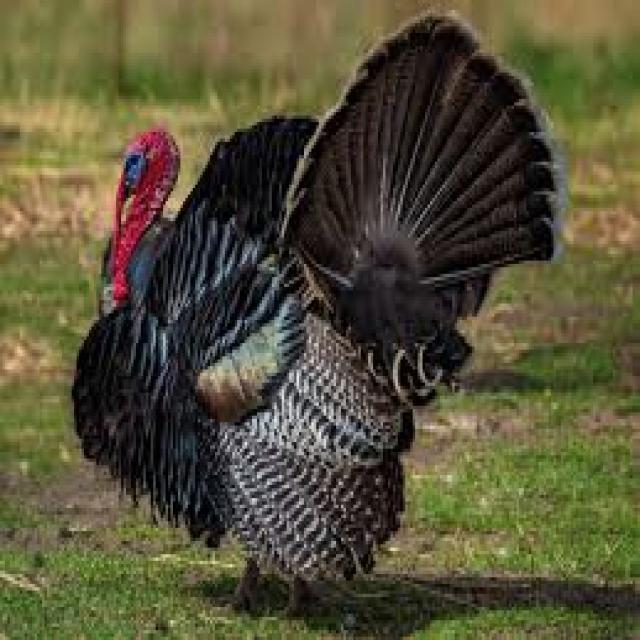turkey: (74, 13, 563, 604)
